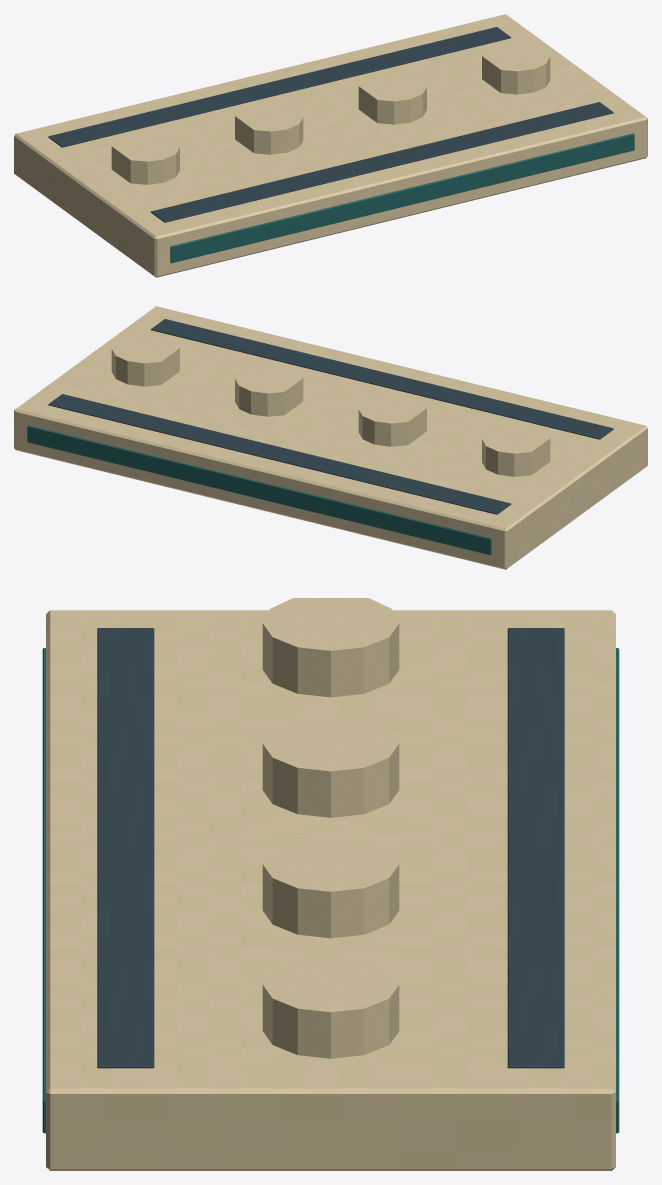
File: plate-lod-1.glb
The picture shows the model from 3 angles, top to bottom: view 1: azimuth 30°, elevation 25°; view 2: azimuth 150°, elevation 25°; view 3: azimuth 270°, elevation 25°; orthographic projection. The views are drawn at different scales.
Parts seen in each view (by area): view 1: plate_lod_1; view 2: plate_lod_1; view 3: plate_lod_1.
Part boxes in pixels (<box>): plate_lod_1: <box>14,14,647,277</box>; plate_lod_1: <box>14,306,647,569</box>; plate_lod_1: <box>42,598,619,1170</box>.
Bounding box in the file's own units: 4 × 0.5 × 2.02.
Materials: 1 (1 with a texture image).
